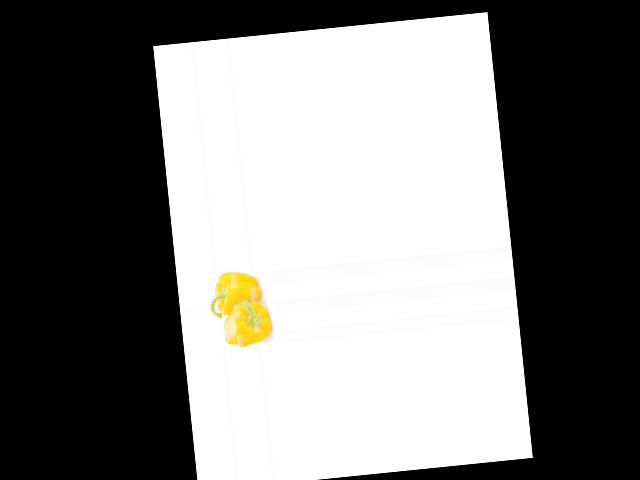bell_pepper: (208, 268, 264, 320)
